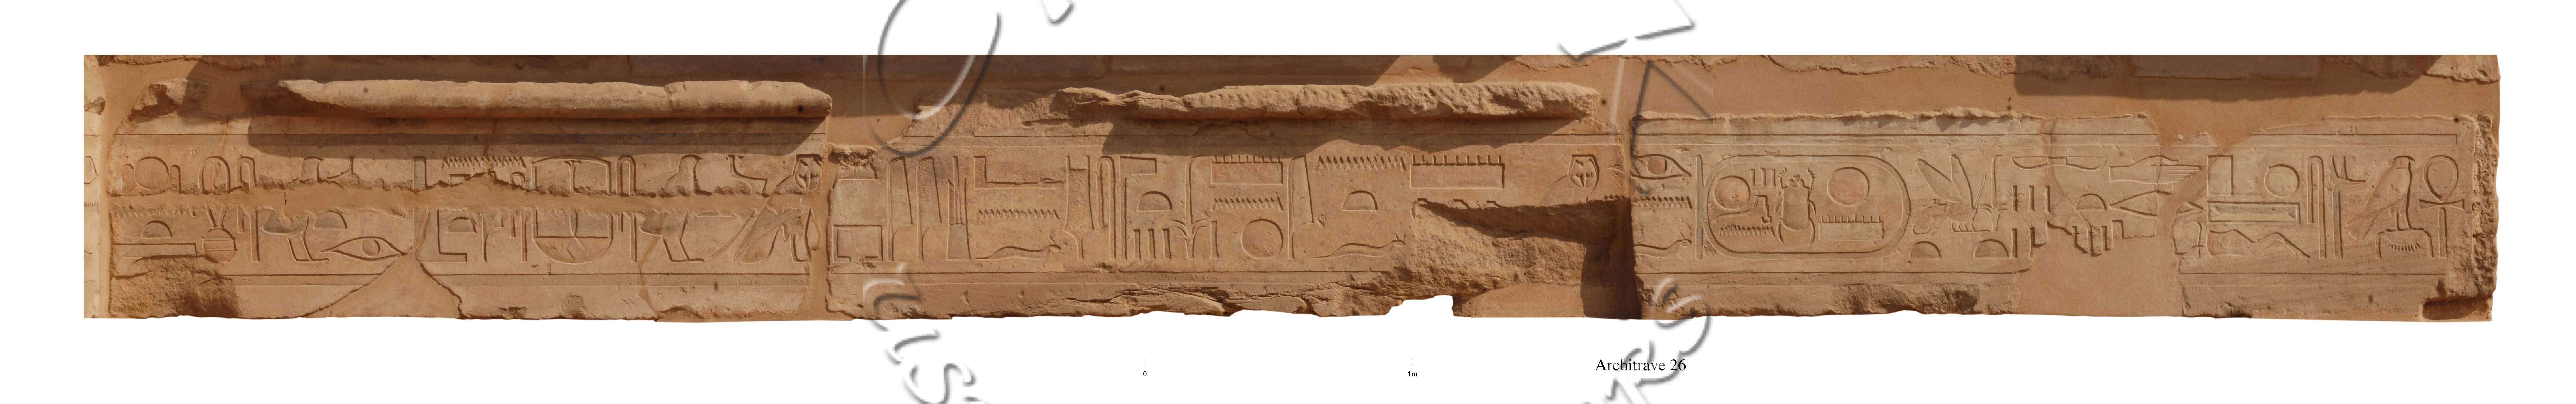D21: (2101, 176, 2206, 233)
D4: (1600, 140, 1694, 200), (314, 225, 412, 274)
G17: (724, 141, 831, 281), (1538, 138, 1602, 243)
G43: (632, 148, 710, 276), (256, 148, 330, 268)
M17: (872, 146, 913, 268), (1276, 146, 1318, 268), (908, 149, 943, 268), (468, 164, 506, 263)
N35: (1304, 141, 1414, 184), (1598, 184, 1697, 220), (105, 195, 202, 232), (1204, 184, 1288, 225), (430, 146, 532, 177), (974, 202, 1063, 235), (1712, 212, 1779, 255)
